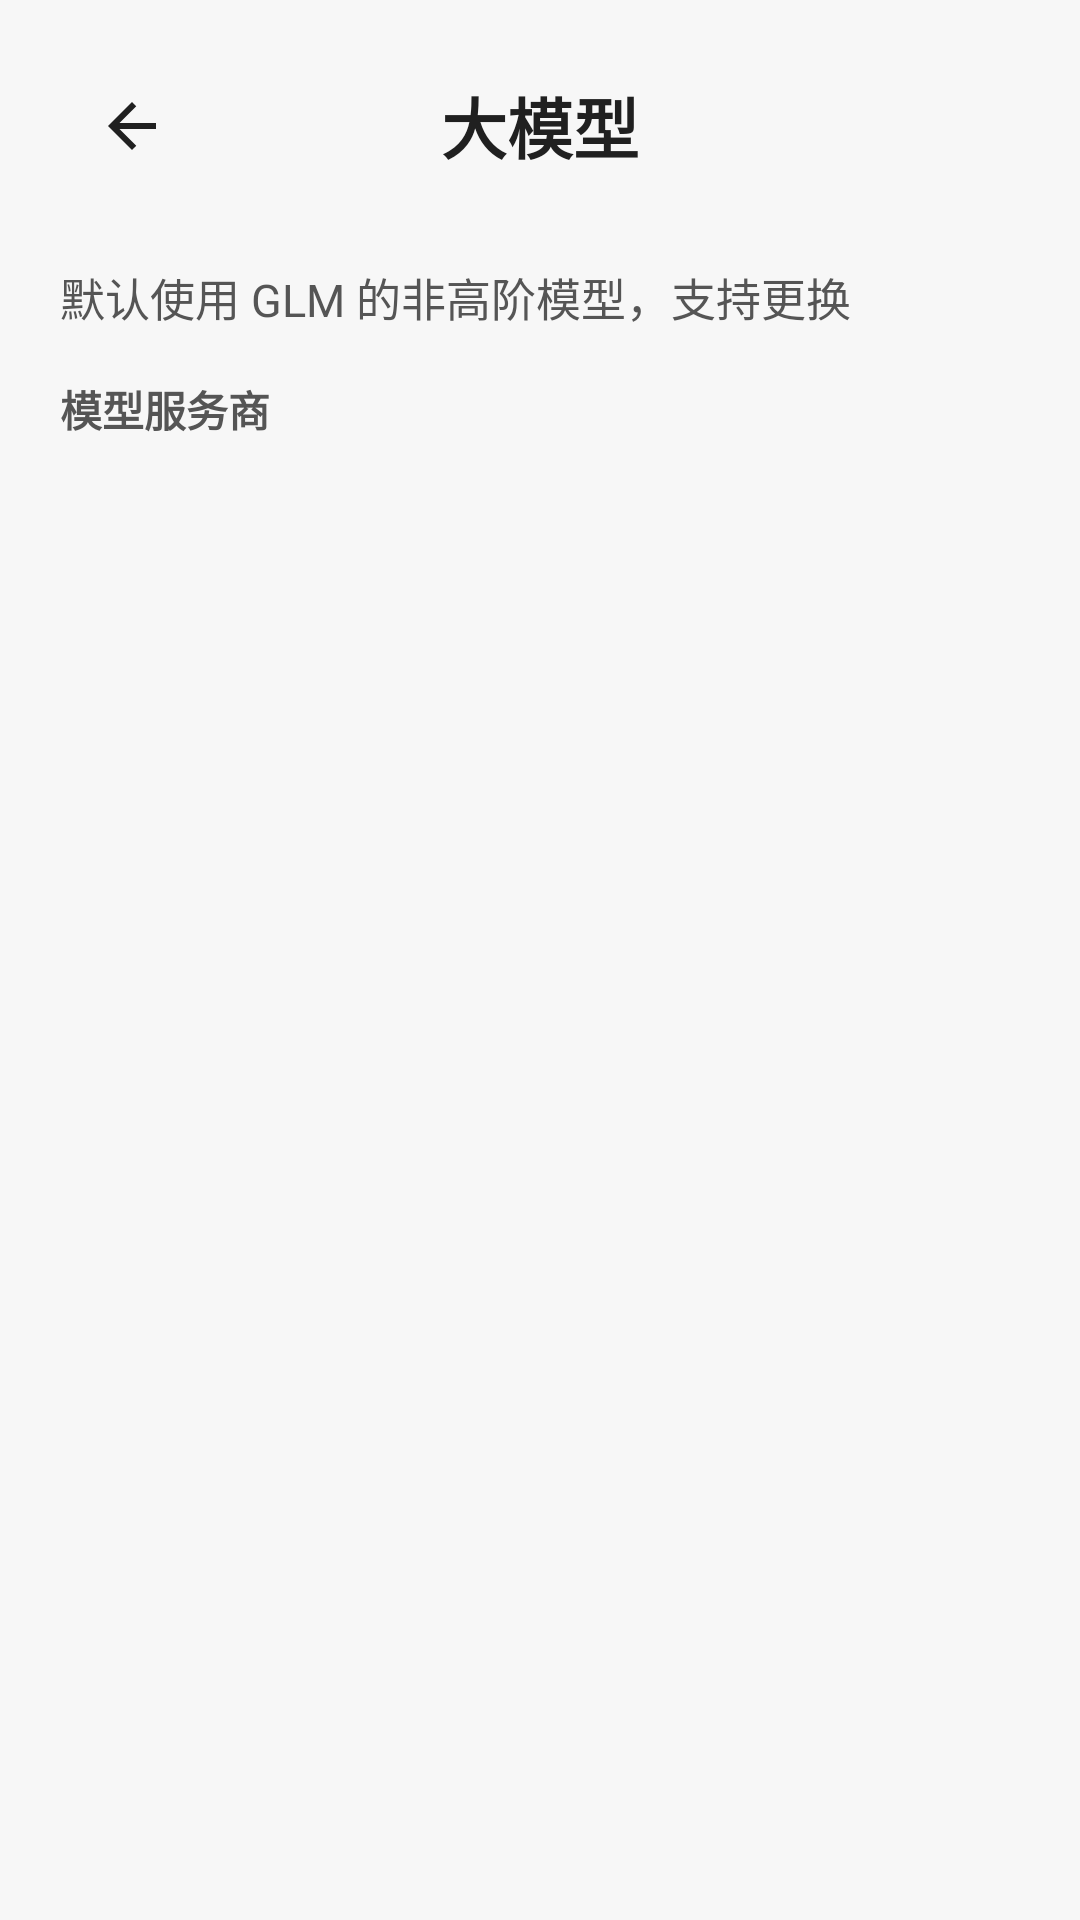

Locate icon controls on the screen. Image size 1080×1920, boxes as (x1=x1, y1=y1, x2=x2, y2=y2).
返回: (x1=108, y1=102, x2=156, y2=150)
